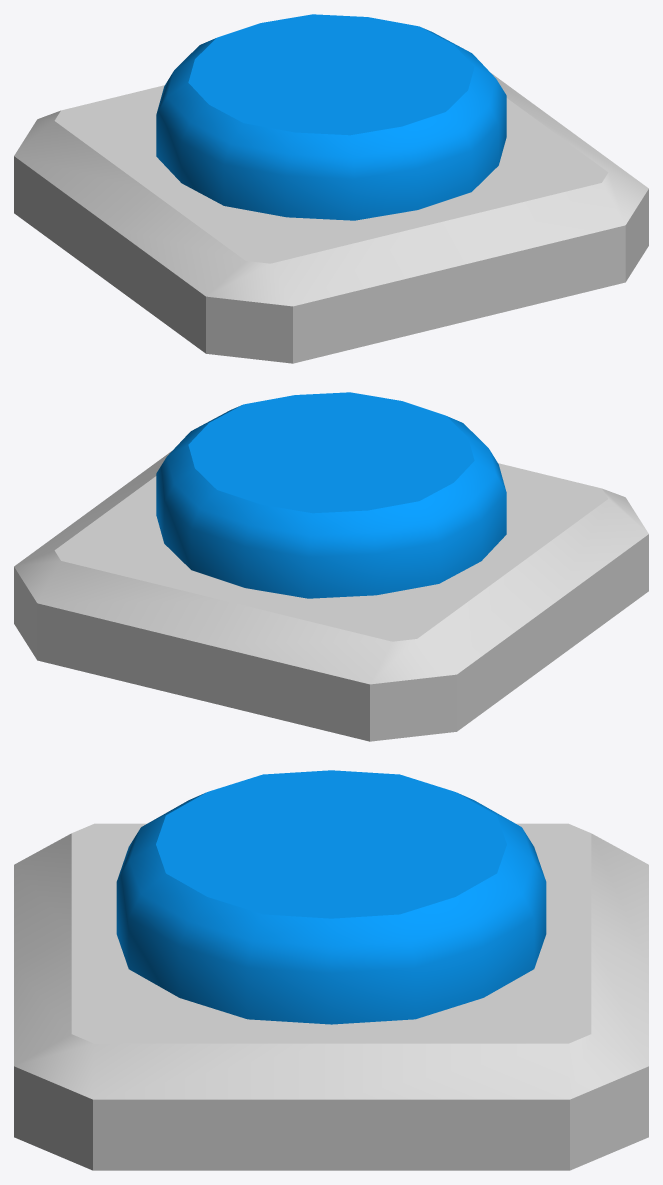
The model's file is LED_3_Blue.fbx.
The picture shows the model from 3 angles, top to bottom: view 1: azimuth 30°, elevation 25°; view 2: azimuth 150°, elevation 25°; view 3: azimuth 270°, elevation 25°; orthographic projection. The views are drawn at different scales.
Parts seen in each view (by area): view 1: LED_3_Blue; view 2: LED_3_Blue; view 3: LED_3_Blue.
Part boxes in pixels (bbox=[...]): LED_3_Blue: bbox=[14, 14, 648, 363]; LED_3_Blue: bbox=[14, 392, 648, 741]; LED_3_Blue: bbox=[14, 770, 648, 1170].
Size of the model in its own units: 29.08 by 9.7 by 29.08.
